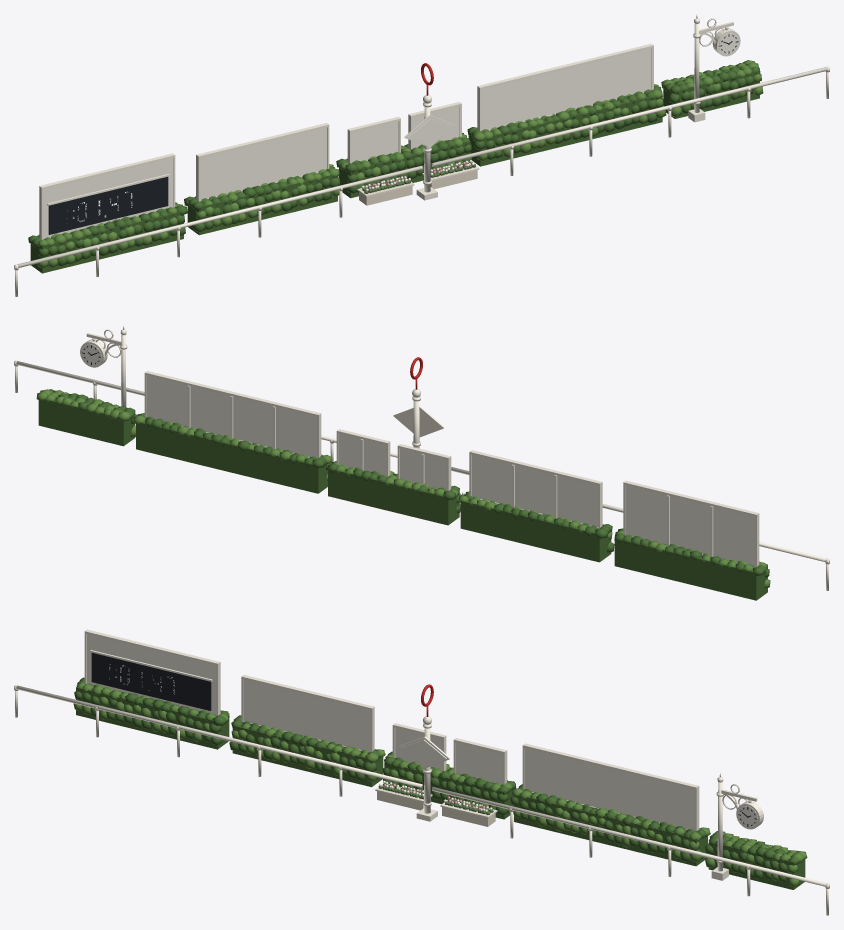
File: finish_line.glb
3 views of the same model, one above another, from view 1: azimuth 30°, elevation 25°; view 2: azimuth 150°, elevation 25°; view 3: azimuth 330°, elevation 25° (orthographic).
Visible parts, largest first — view 1: finish_line; view 2: finish_line; view 3: finish_line.
Boxes of the visible parts, x1=… form: finish_line: x1=14, y1=14, x2=829, y2=296; finish_line: x1=14, y1=325, x2=829, y2=600; finish_line: x1=14, y1=629, x2=829, y2=915.
Size of the model in its own units: 30.15 by 4.67 by 2.24.
